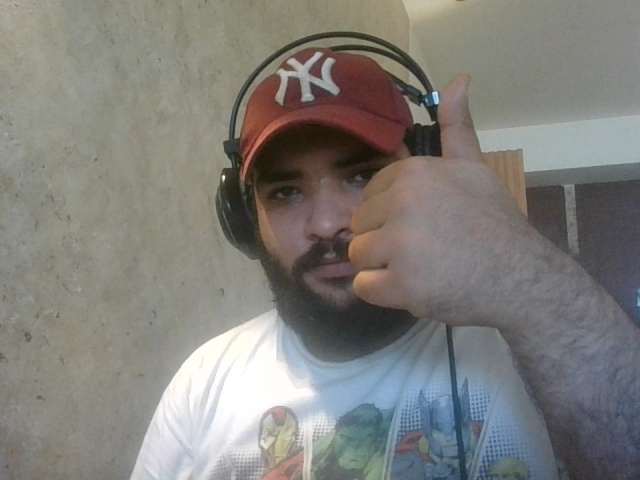yes: (349, 73, 528, 350)
